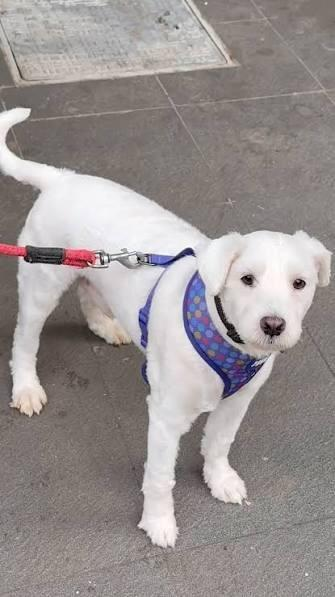adult_dog: (0, 105, 333, 548)
